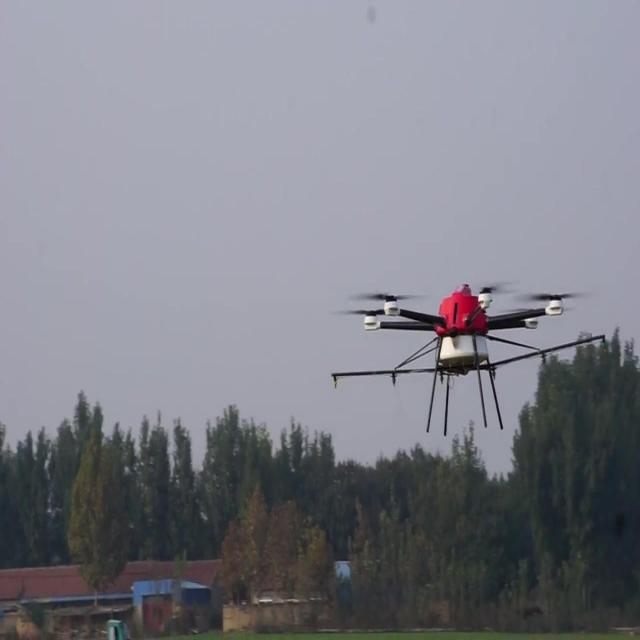drone: (330, 280, 606, 435)
